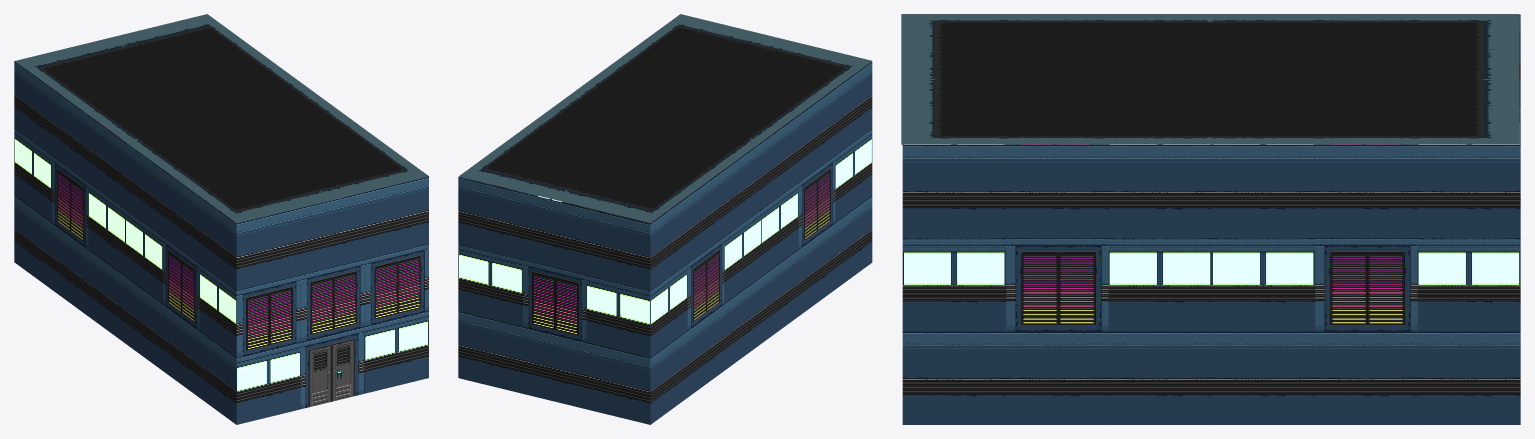
File: 2story_long.FBX
3 renders of one model, left to right at view 1: azimuth 30°, elevation 25°; view 2: azimuth 150°, elevation 25°; view 3: azimuth 270°, elevation 25°, orthographic. The views are drawn at different scales.
Visible parts, largest first — view 1: 2story_long, roof; view 2: 2story_long, roof; view 3: 2story_long, roof.
Part boxes in pixels (x1,y1,x2,y2): 2story_long: (14, 61, 428, 424); roof: (15, 14, 428, 223); 2story_long: (458, 61, 872, 424); roof: (459, 14, 871, 222); 2story_long: (902, 14, 1520, 424); roof: (901, 14, 1519, 144).
Bounding box in the file's own units: 147 × 148 × 295.
Materials: 2 (2 with a texture image).
